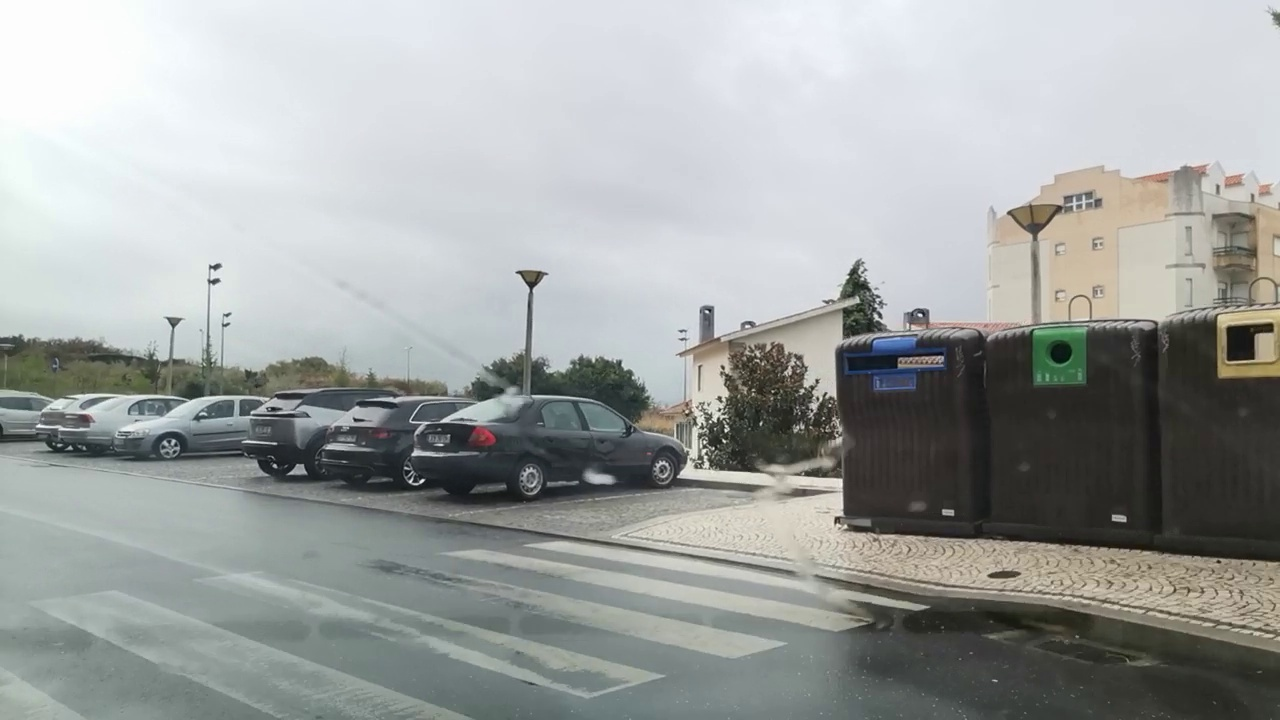Stairs: (0, 535, 925, 720)
